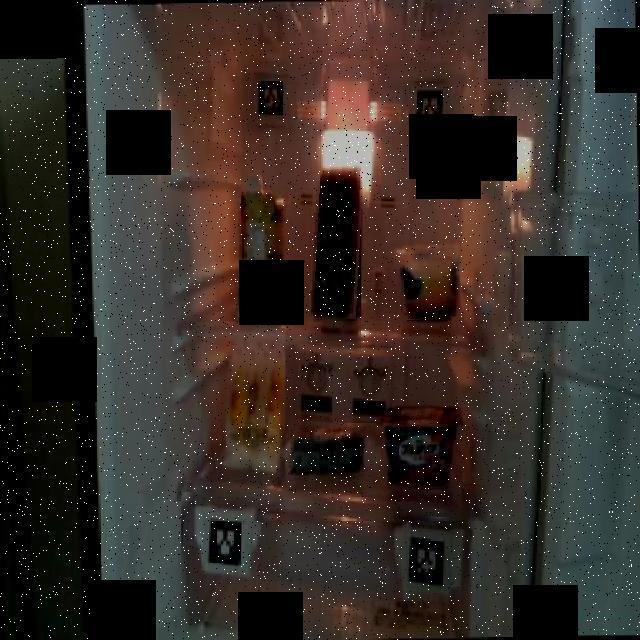energy_drink: (311, 165, 364, 323)
pudding: (394, 242, 460, 322)
rice_ball: (286, 423, 376, 482)
sandwich: (210, 328, 285, 481)
smoothie: (231, 164, 286, 318)
yogurt: (381, 402, 462, 490)
